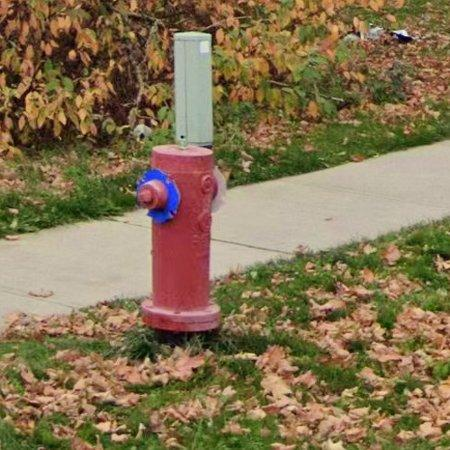a fire hydrant: (137, 145, 220, 333)
